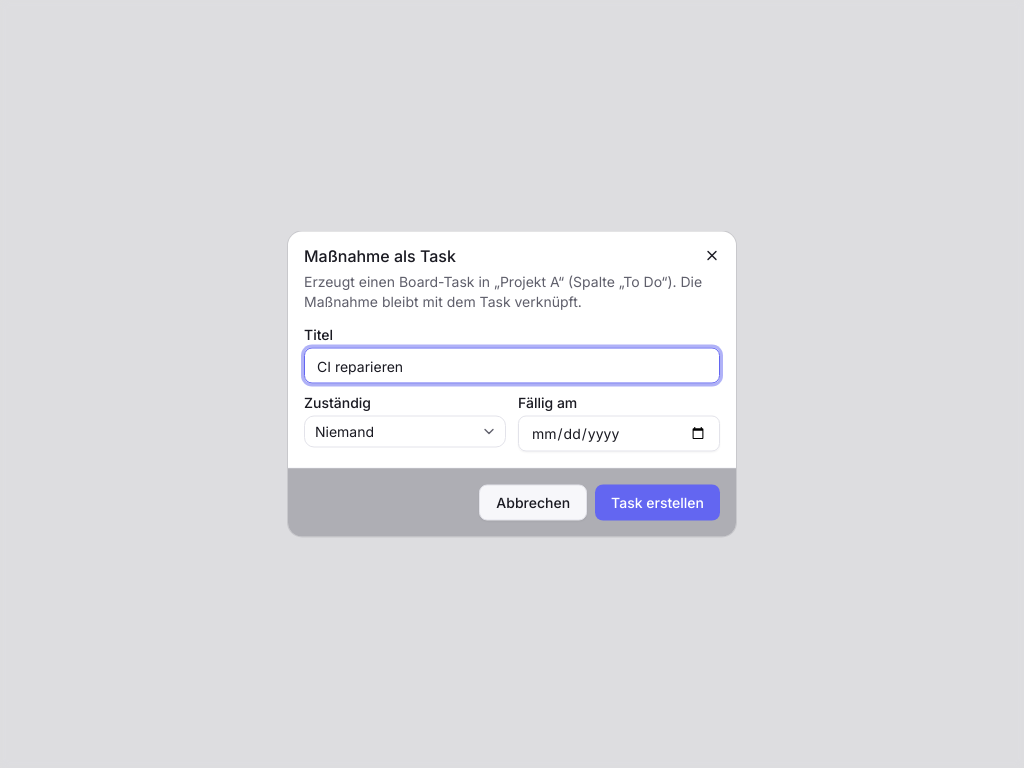
Test case: RetroActionDialog (TASK-065) › disables create when the title is blank
Clear the field with test id "retro-action-title" at (512, 366), box [304, 348, 720, 384]
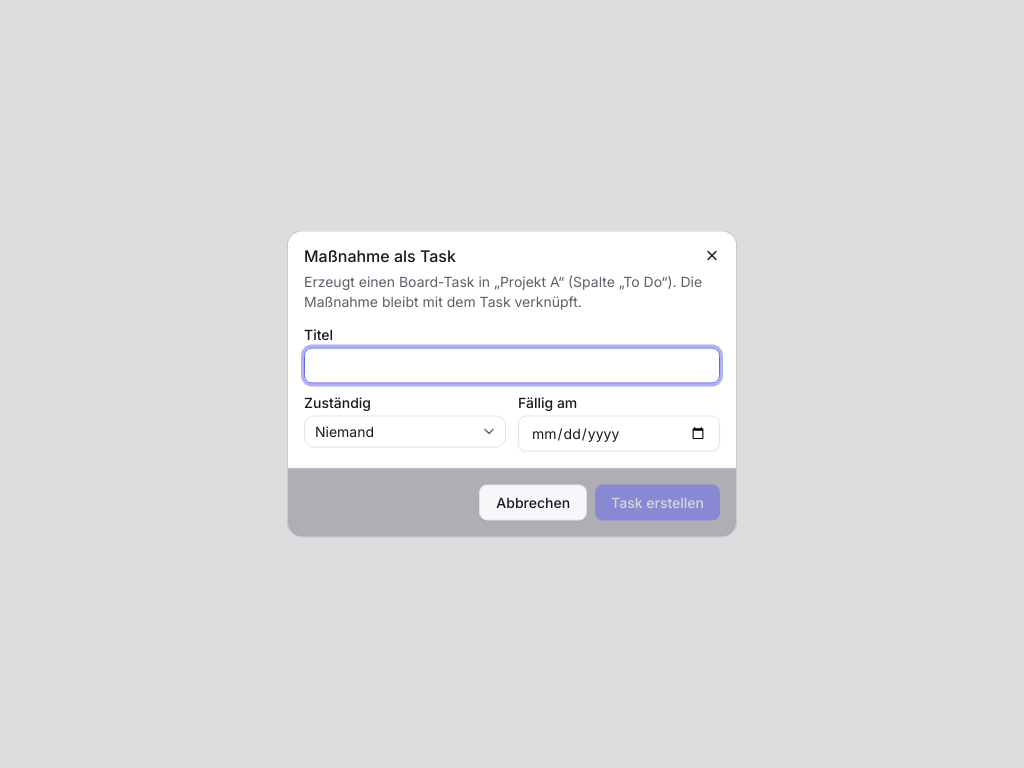
Expected: the button with test id "retro-action-create" is disabled, [595, 484, 720, 520]
